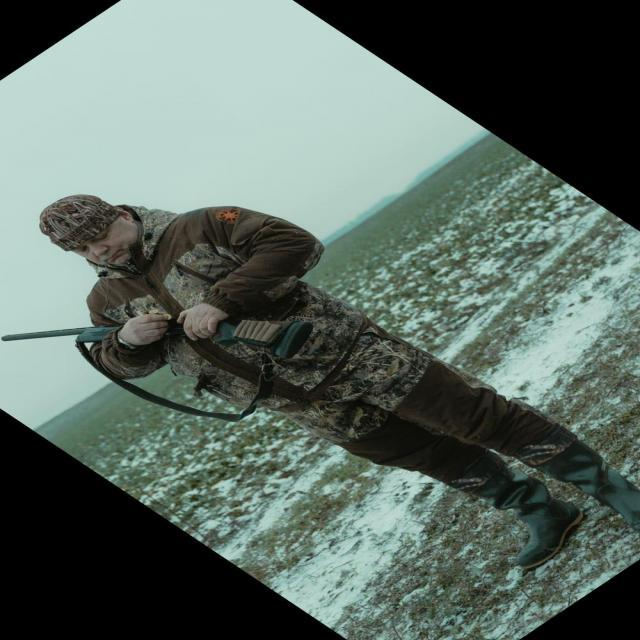weapon: (0, 316, 315, 361)
